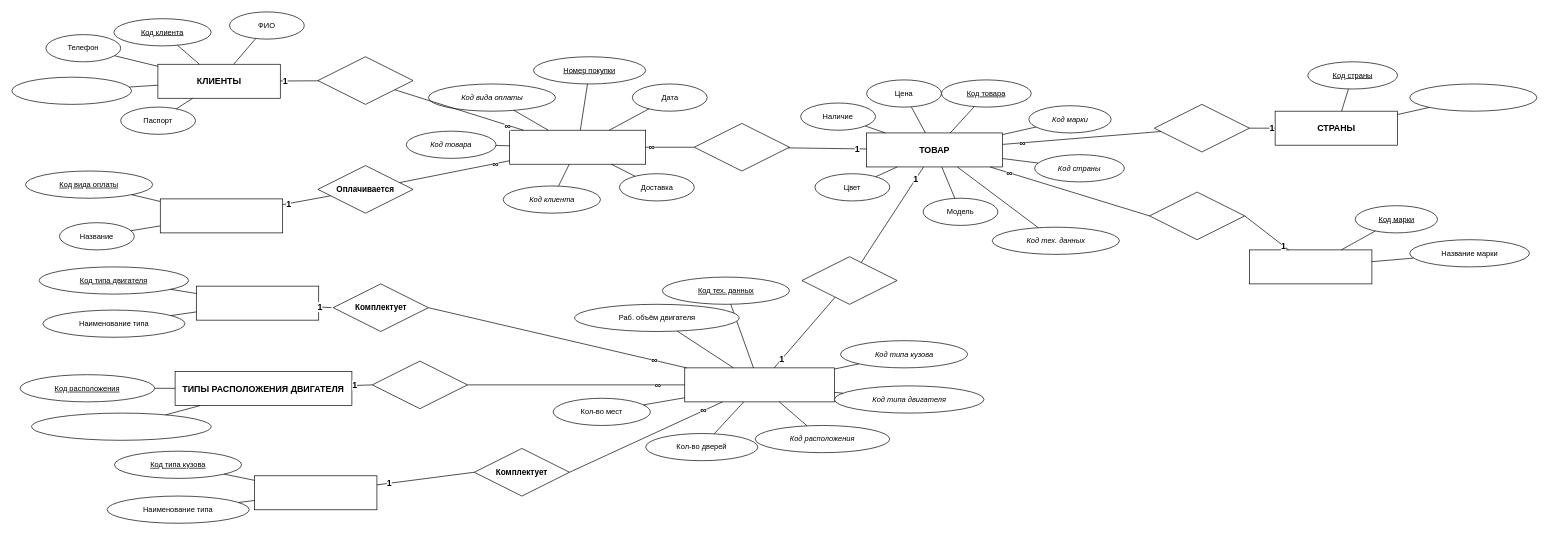
The diagram is 1549 pixels wide and 535 high, and some of its shapes have lost their labels. The centre of each missing label's shape, as x and y in pixels:
ВИДЫ ОПЛАТЫ: (x=221, y=215)
Включает: (x=741, y=147)
Выпускает: (x=1197, y=215)
Домашний адрес: (x=71, y=90)
Изготавливает: (x=1202, y=128)
МАРКИ АВТО: (x=1310, y=266)
Название страны: (x=1473, y=97)
Определяет: (x=420, y=384)
Оформляет: (x=365, y=80)
ПОКУПКА: (x=577, y=147)
Расположение двигателя: (x=121, y=426)
ТЕХНИЧЕСКИЕ ДАННЫЕ: (x=759, y=384)
ТИПЫ ДВИГАТЕЛЯ: (x=257, y=302)
ТИПЫ КУЗОВА: (x=315, y=492)
Характеризует: (x=849, y=280)
